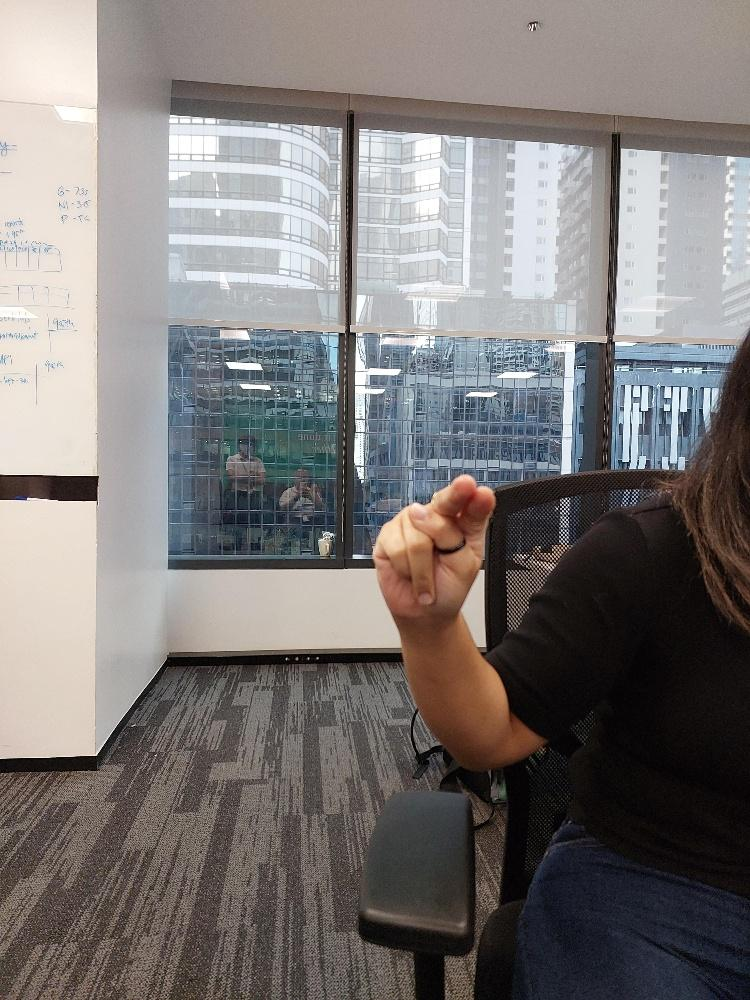n: (370, 470, 498, 630)
